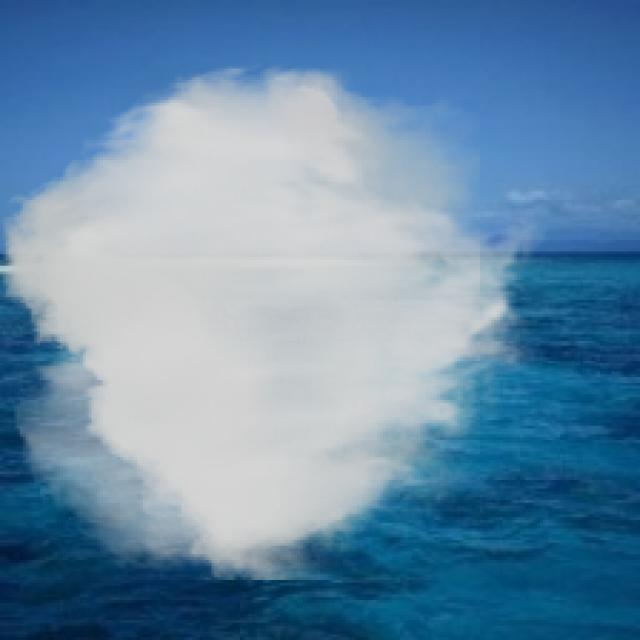Smoke: (2, 60, 548, 580)
